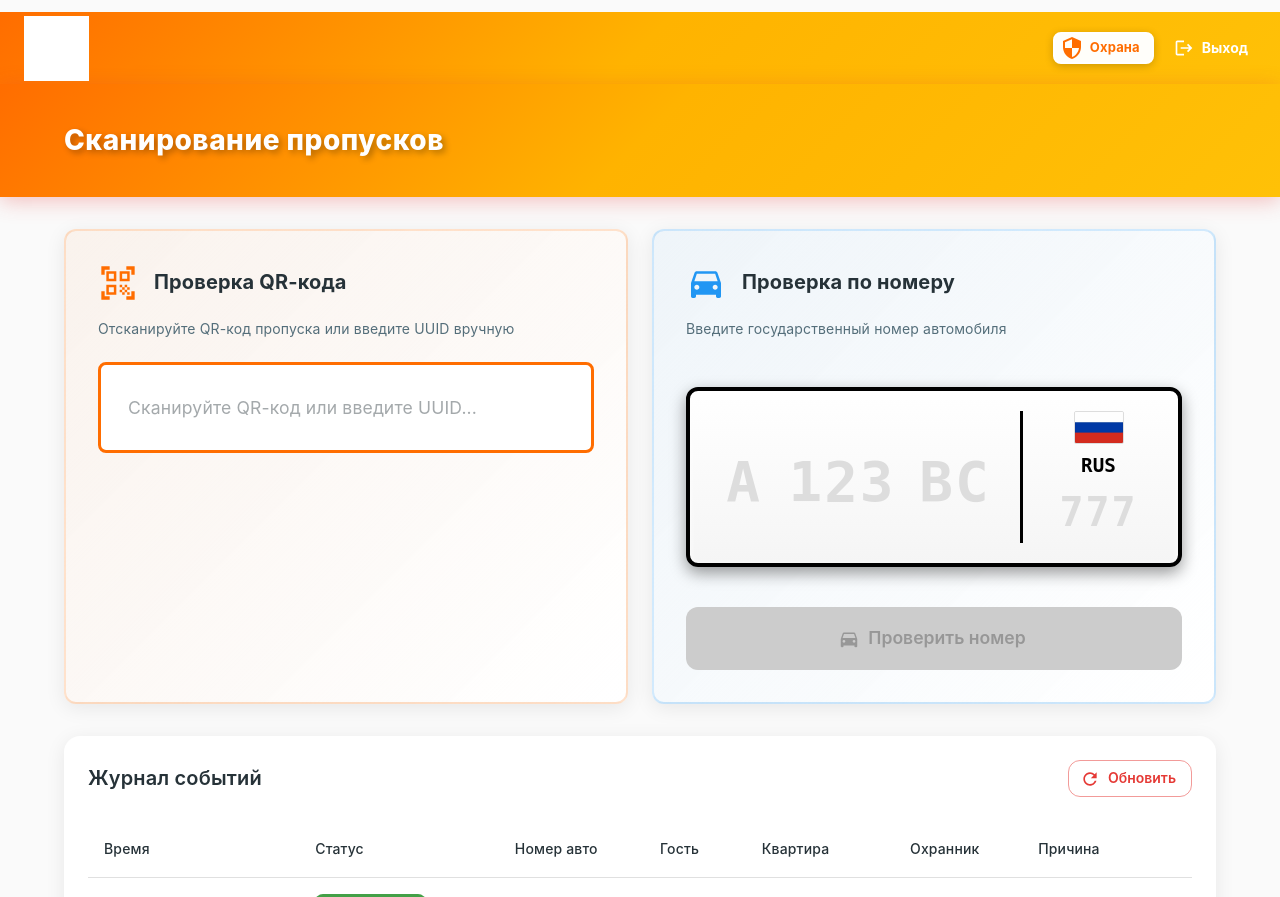
SecurityPage › shows error for unknown QR
This screenshot has width=1280, height=897.
Type "unknown-uuid" into the field with placeholder "Сканируйте QR-код или введите UUID...".
click(346, 408); type("unknown-uuid")  # box x1=114 y1=379 x2=578 y2=437
Then press Enter
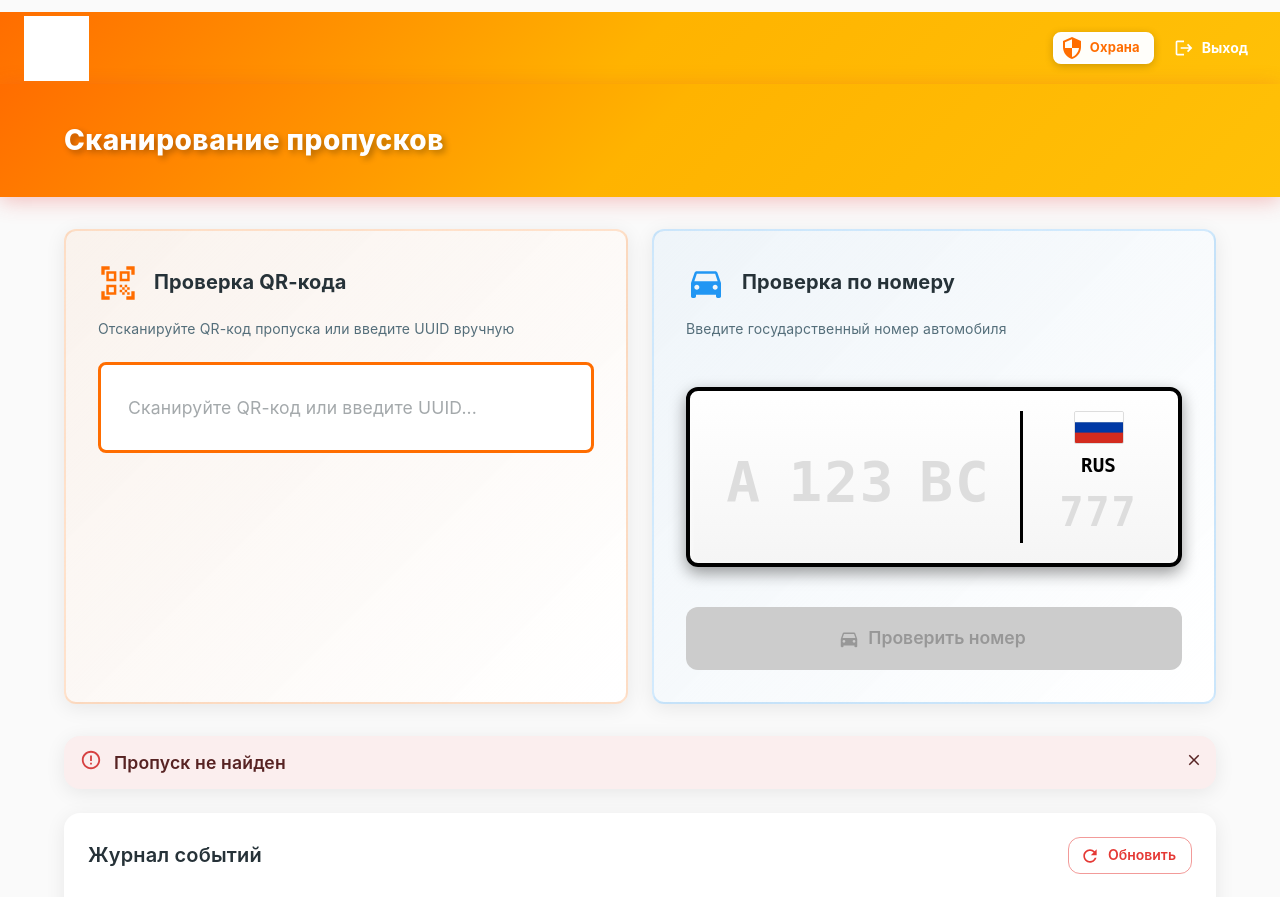
Result: the message "Пропуск не найден" is shown at x1=64 y1=736 x2=1216 y2=790
